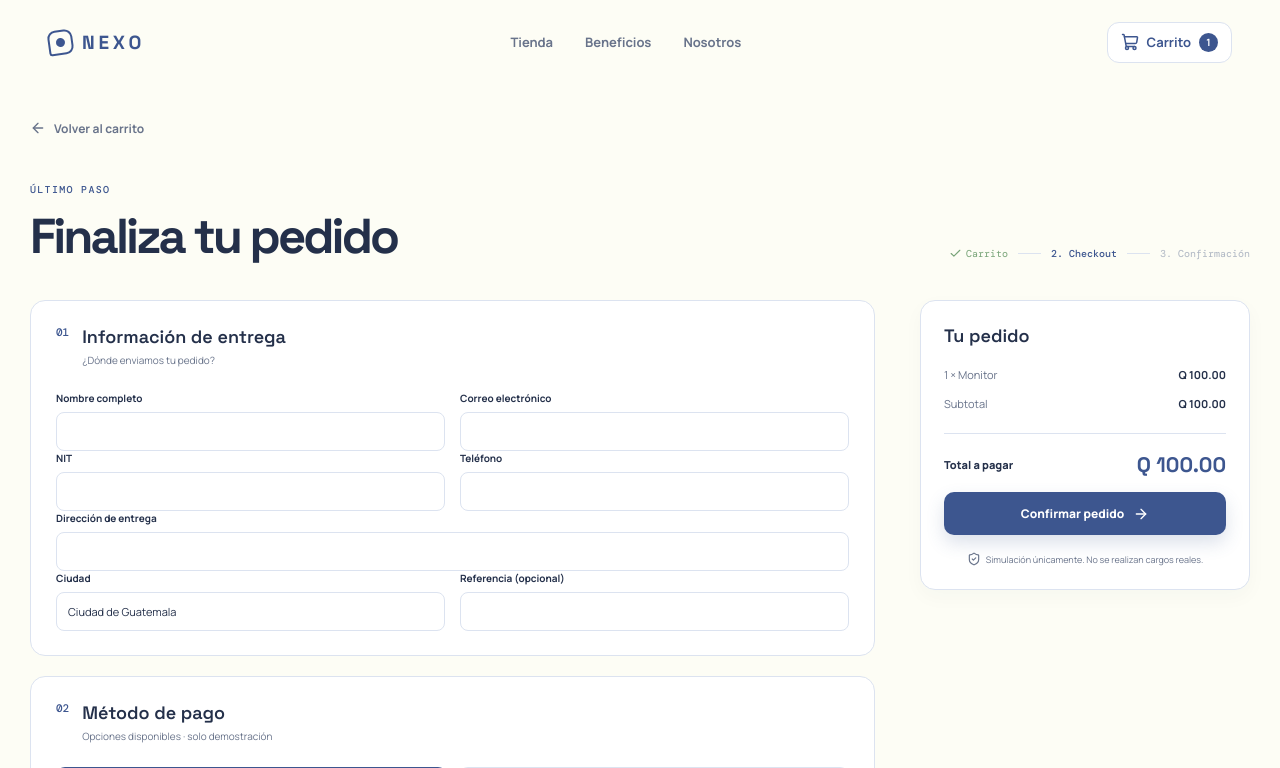
Scenario: checkout público › conserva el error original cuando no puede consultar un envío en conflicto
Type "Cliente Demo" into the field labelled "Nombre completo" at (250,432), box [56,412,445,451]
Type "cliente@example.test" into the field labelled "Correo electrónico" at (654,432), box [460,412,849,451]
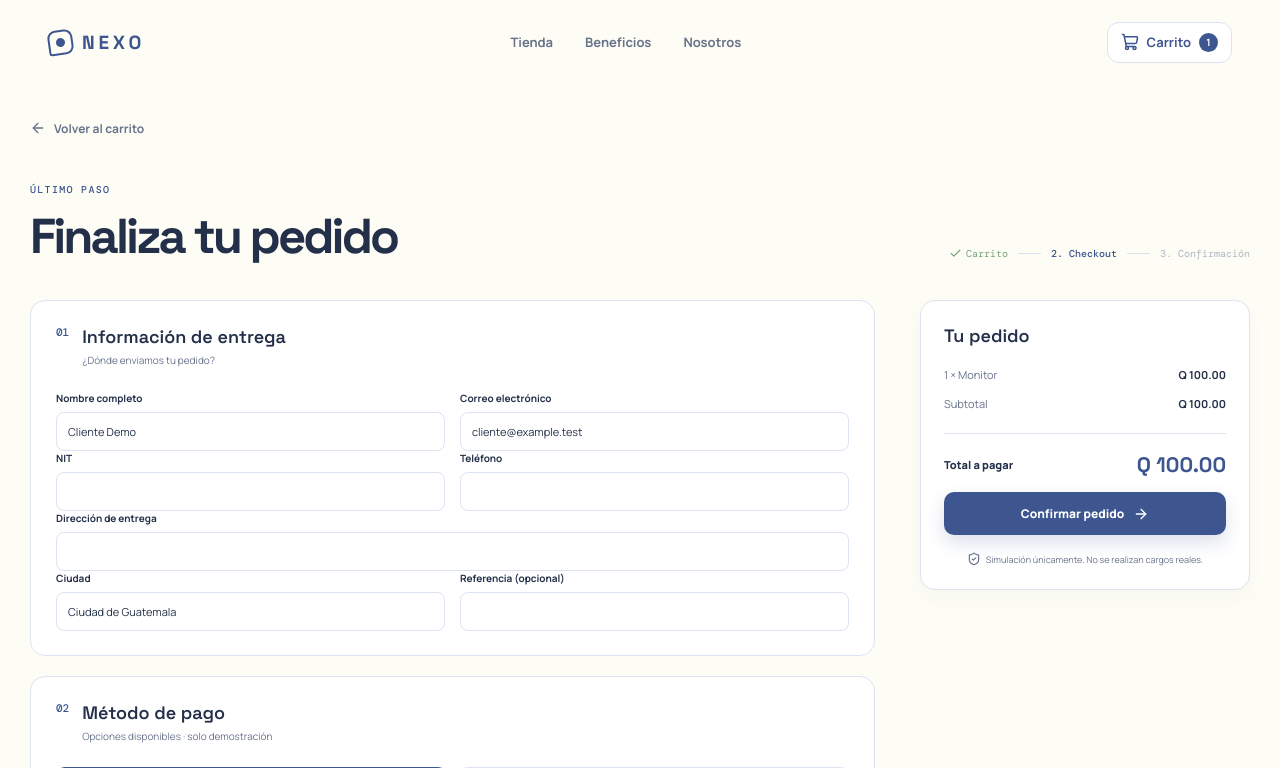
Type "CF" into the field labelled "NIT" at (250,492), box [56,472,445,511]
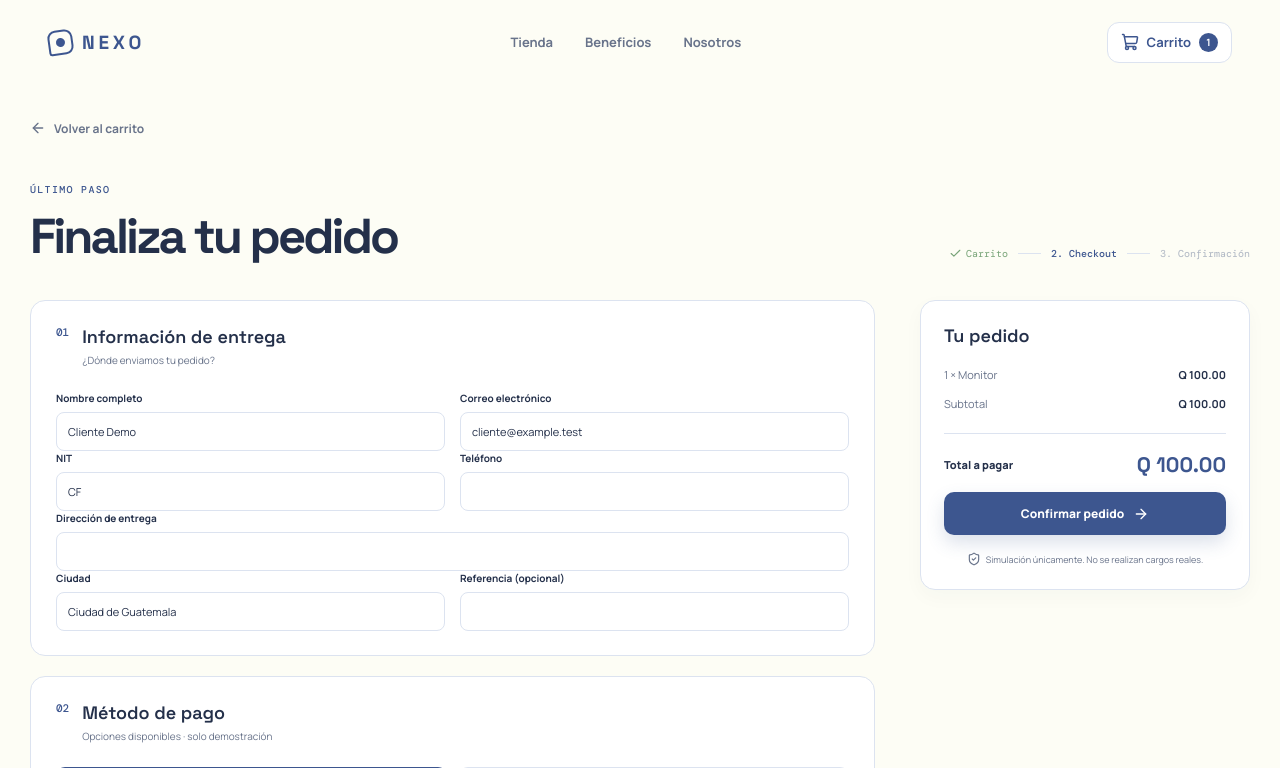
Type "5555-0101" into the field labelled "Teléfono" at (654,492), box [460,472,849,511]
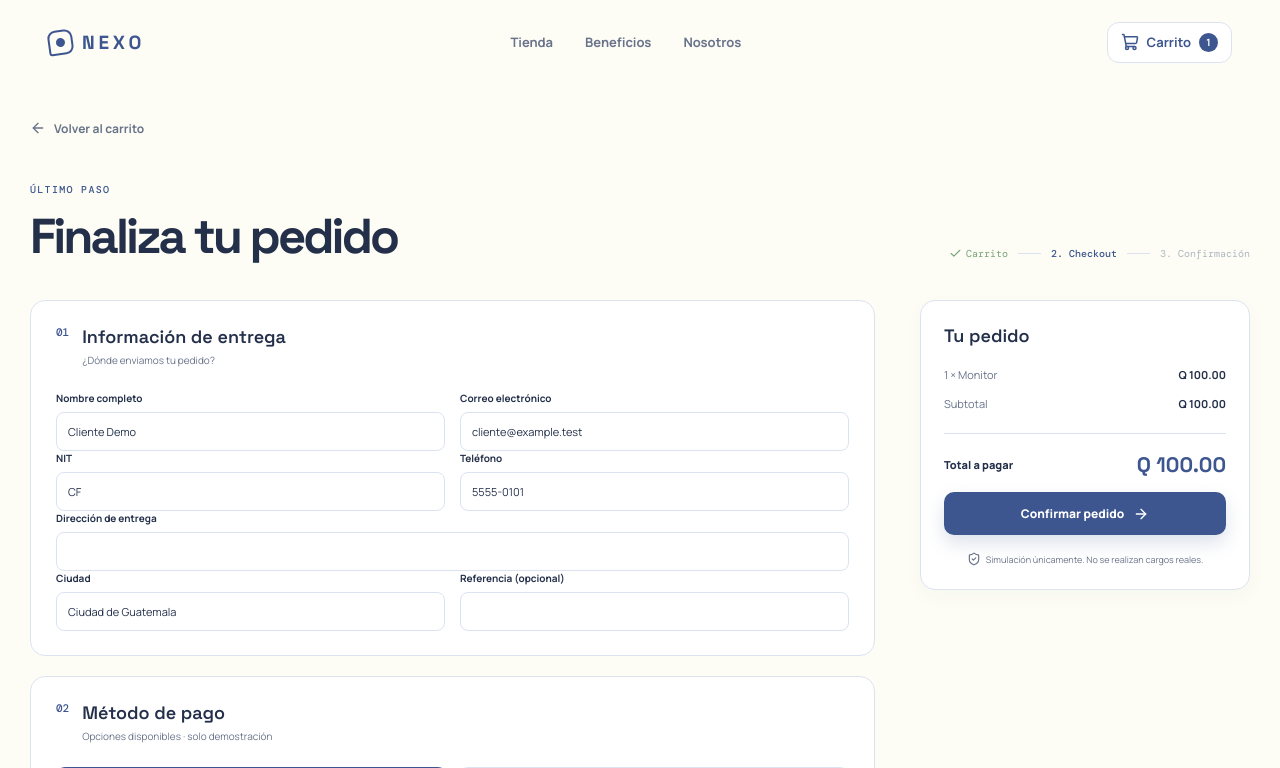
Type "Zona 1" into the field labelled "Dirección de entrega" at (452,552), box [56,532,849,571]
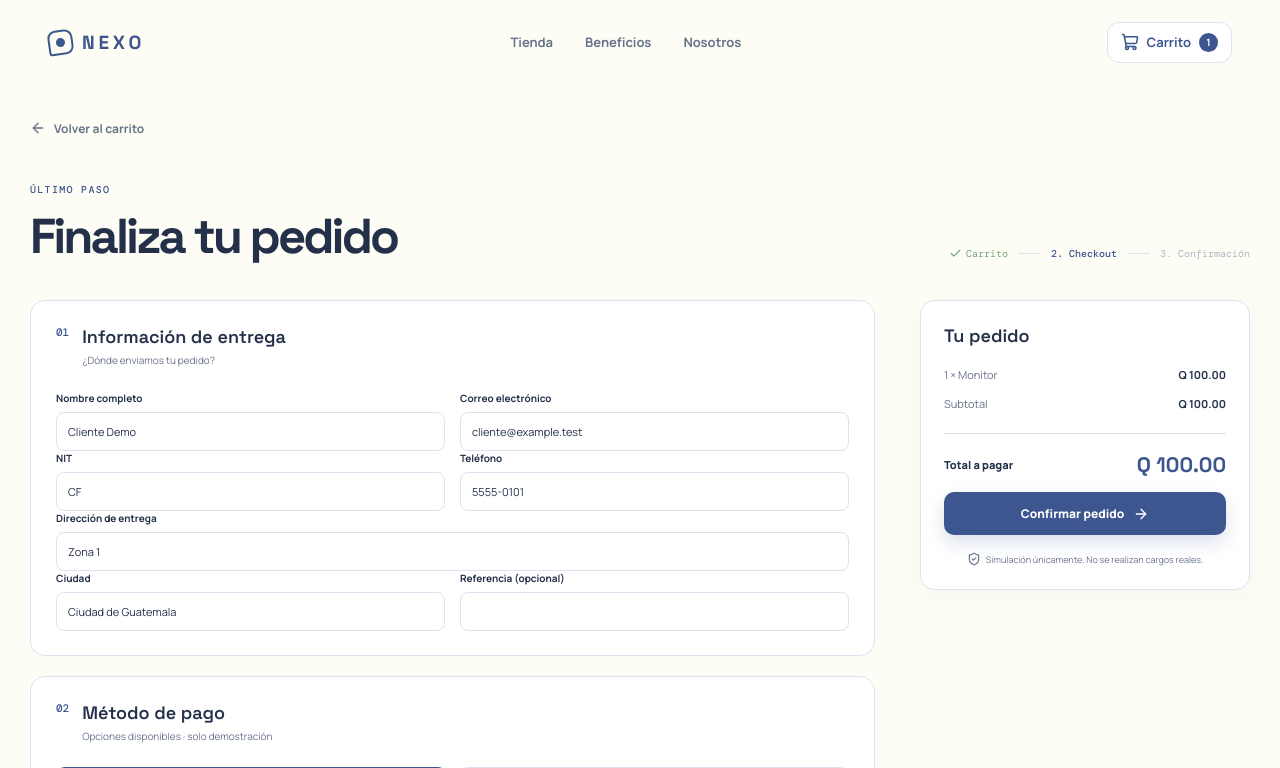
Replace the text in the field labelled "Ciudad" with "Guatemala" at (250,612), box [56,592,445,631]
(page scrolled)
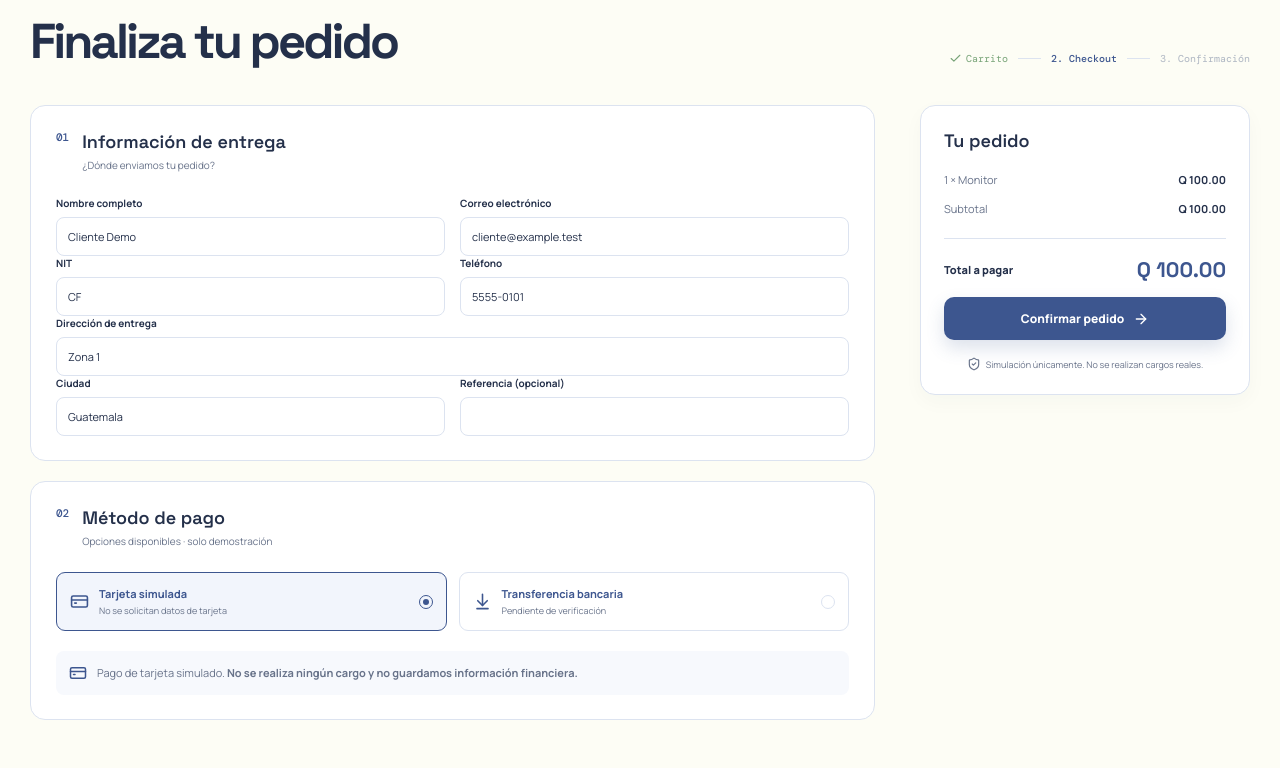
Submit the form
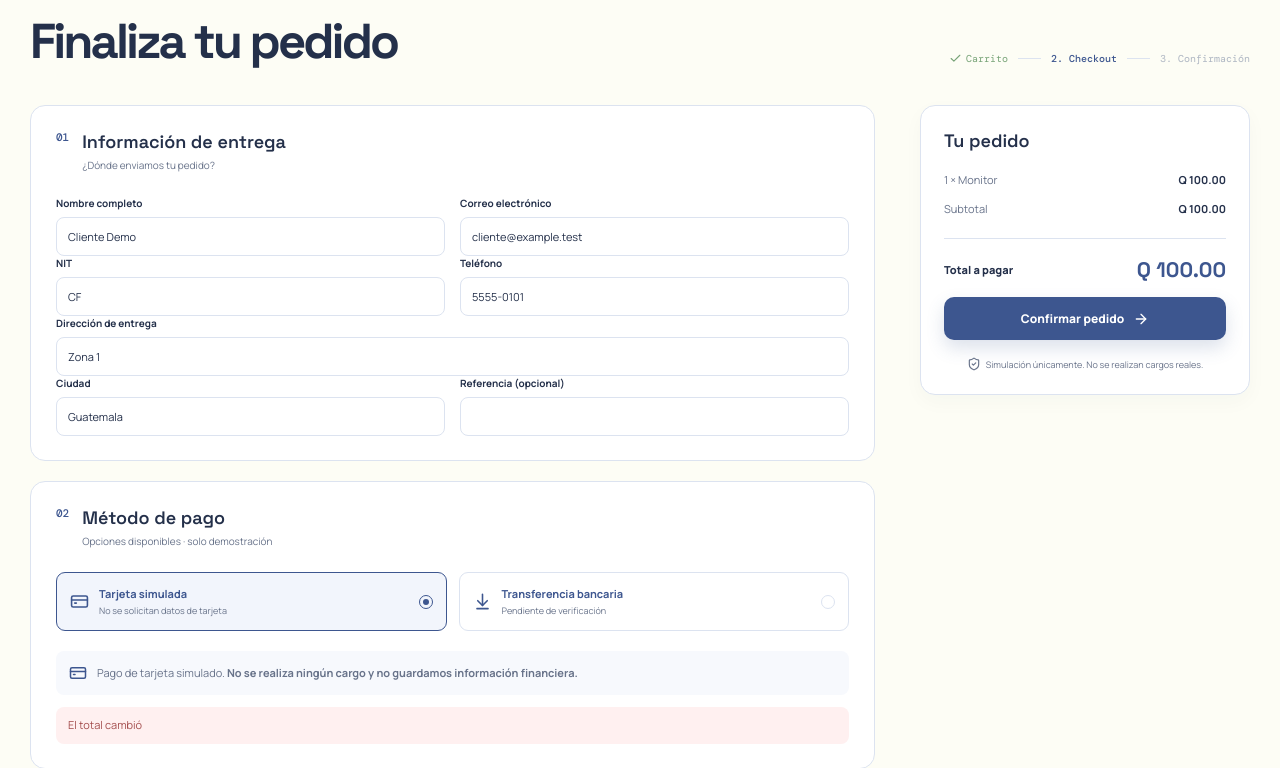
Check: the message reads "El total cambió", box [68,717,142,732]
